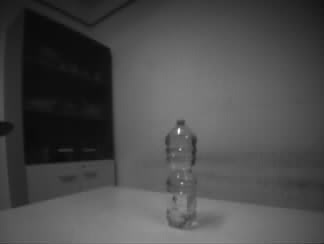Bottle: (161, 117, 199, 231)
